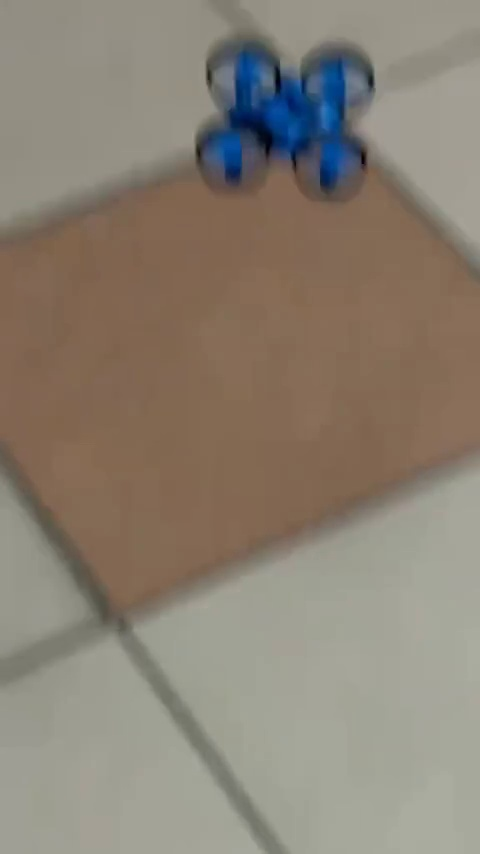drone: (197, 63, 376, 196)
